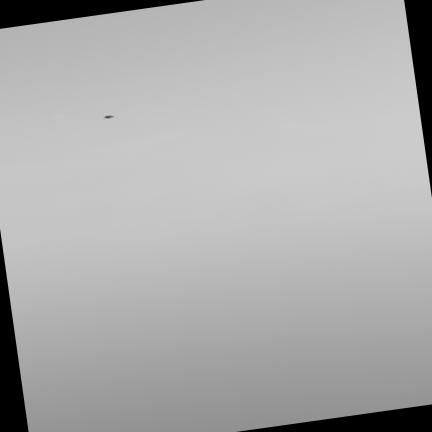Shahed: (103, 114, 114, 119)
